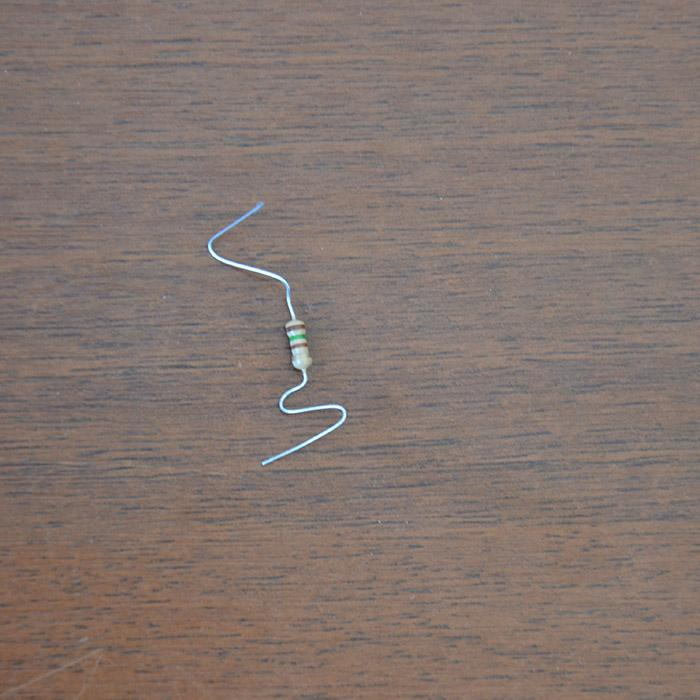resistor: (283, 316, 312, 371)
